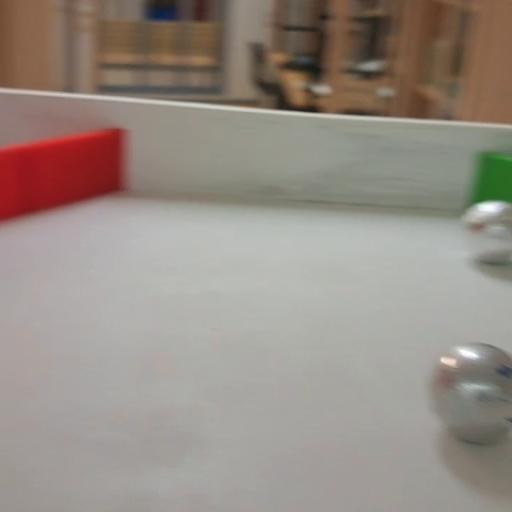alive: (429, 342, 510, 442), (462, 200, 511, 267)
